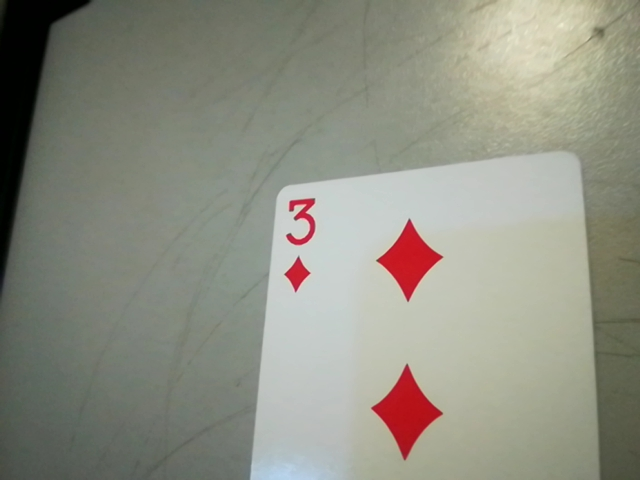fk 3: (270, 188, 330, 298)
